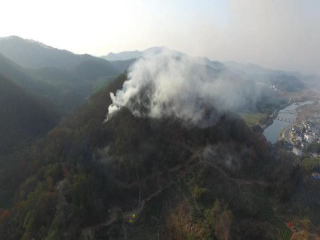smoke: (103, 18, 269, 131)
